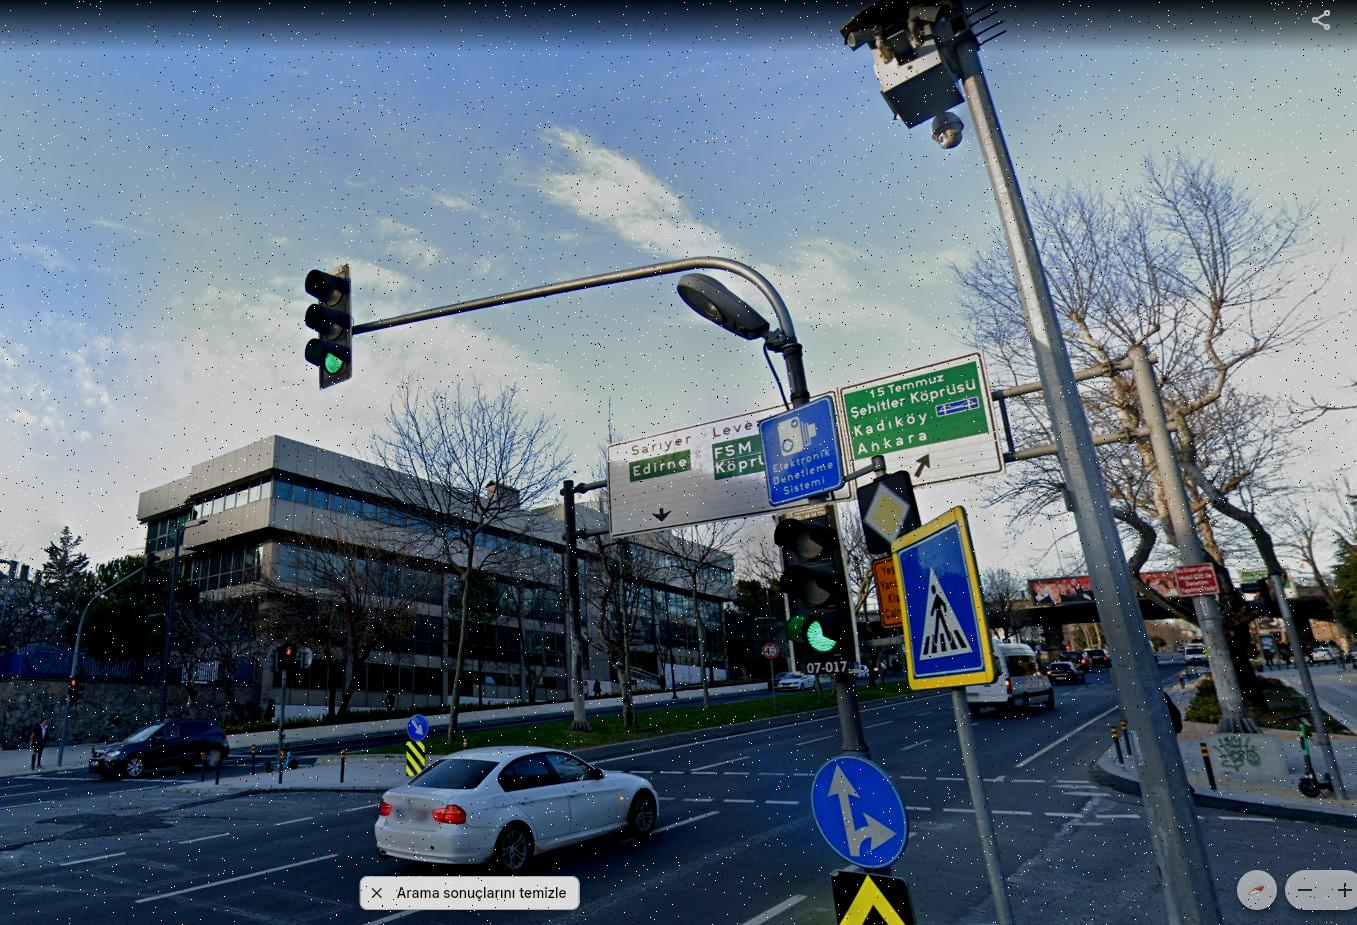greenlight: (779, 518, 849, 679), (299, 261, 352, 388)
